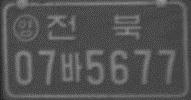0: (13, 50, 34, 87)
5: (85, 48, 105, 85)
6: (109, 48, 130, 86)
7: (156, 47, 177, 85), (36, 48, 56, 86), (133, 47, 152, 85)
바: (60, 51, 82, 83)
영: (12, 13, 40, 43)
전북_D: (46, 12, 142, 41)
